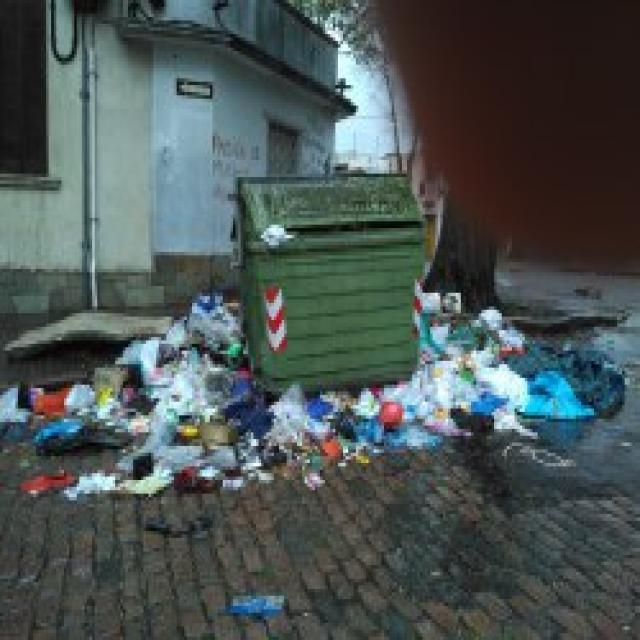garbage: (0, 350, 271, 510), (284, 394, 471, 466), (420, 293, 540, 398), (140, 291, 249, 354), (548, 344, 614, 412), (220, 582, 305, 620), (254, 210, 300, 252)
